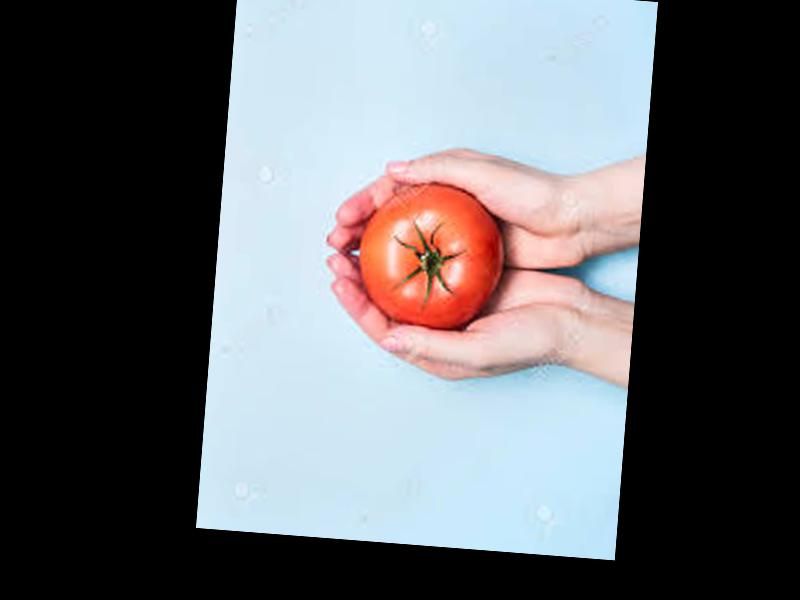Tomato: (354, 178, 507, 337)
